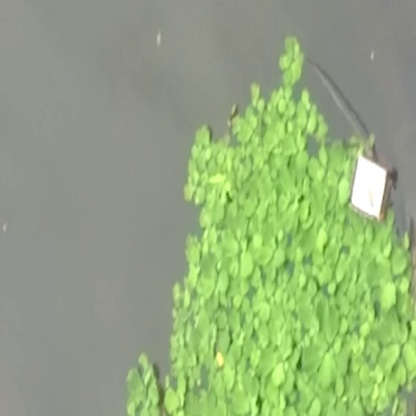grass: (179, 135, 306, 319)
